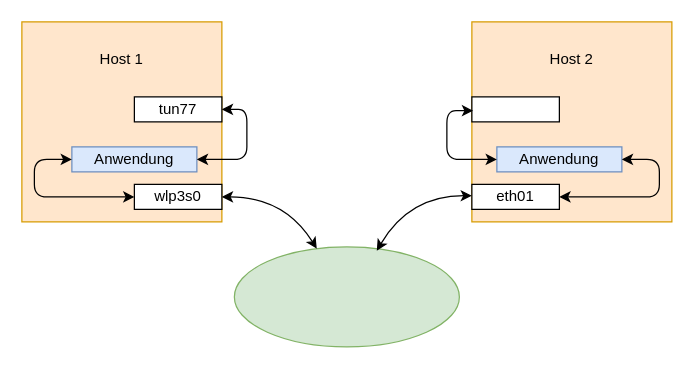
Image size: 694x369. Some labels were removed from this diagram. Each missing label, with the centre of its shape:
"Internet" goes at [346,296].
"tun21" goes at [515,109].
